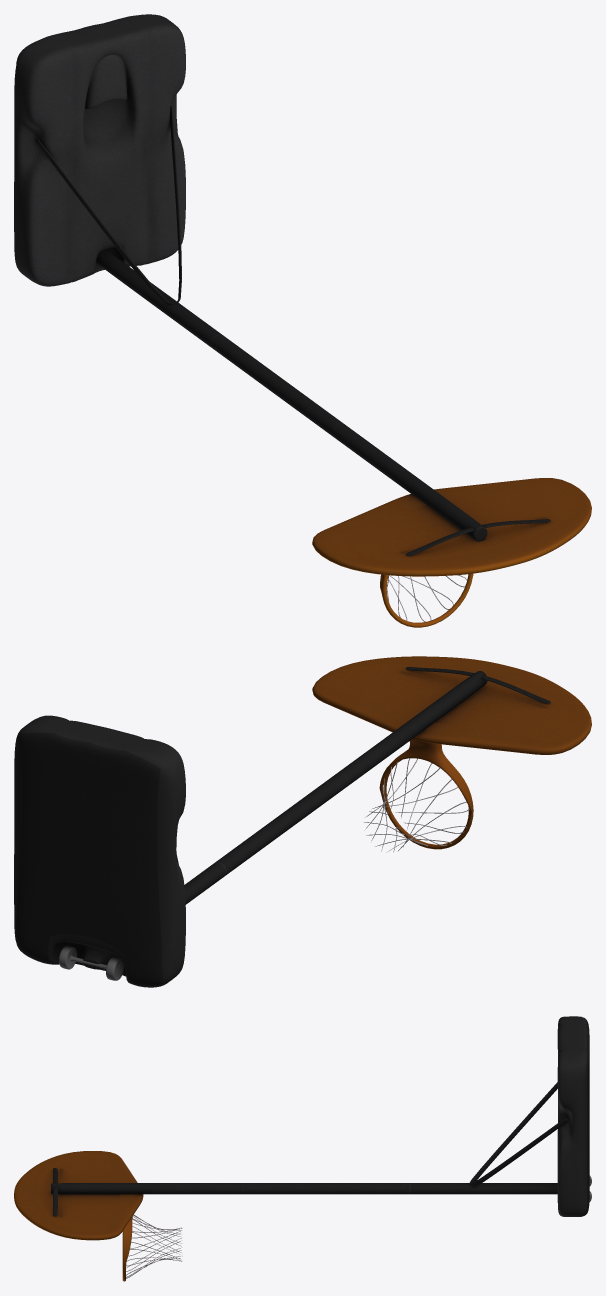
The model's file is 10488_basketball_goal_L3.obj.
3 renders of one model, top to bottom at view 1: azimuth 30°, elevation 25°; view 2: azimuth 150°, elevation 25°; view 3: azimuth 270°, elevation 25°, orthographic. The views are drawn at different scales.
Parts seen in each view (by area): view 1: 10488_basketball_goal_v1; view 2: 10488_basketball_goal_v1; view 3: 10488_basketball_goal_v1.
Boxes of the visible parts, bbox=[...] form: 10488_basketball_goal_v1: bbox=[14, 14, 591, 627]; 10488_basketball_goal_v1: bbox=[14, 656, 591, 987]; 10488_basketball_goal_v1: bbox=[14, 1016, 591, 1281].
Size of the model in its own units: 128 by 168 by 364.
1 material, 1 textured.
